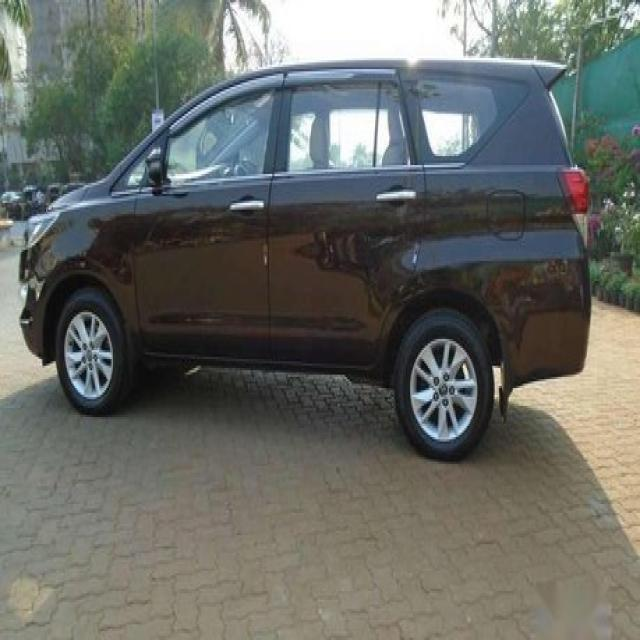light_vehicle: (18, 58, 594, 462)
